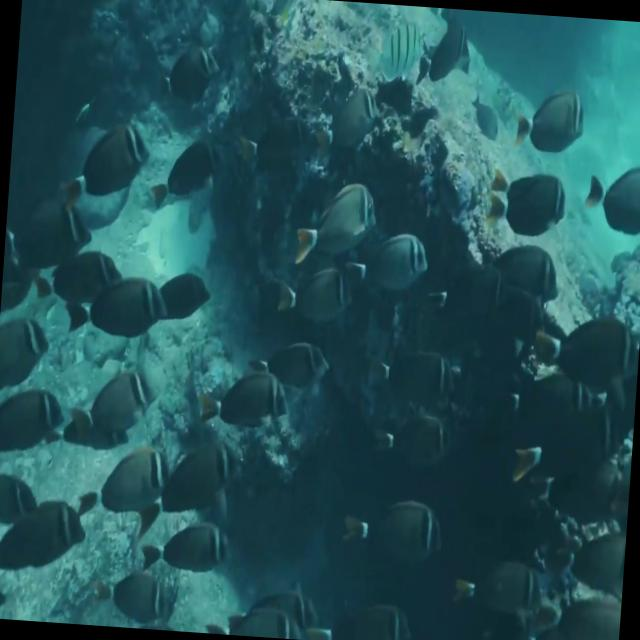fish: (74, 438, 176, 526), (62, 115, 153, 213), (291, 176, 379, 274), (534, 308, 638, 388), (338, 492, 444, 570), (66, 270, 172, 340), (70, 364, 158, 444), (200, 366, 294, 439), (349, 224, 427, 303), (138, 517, 230, 577), (518, 86, 587, 152), (582, 165, 640, 243), (480, 184, 571, 232)
